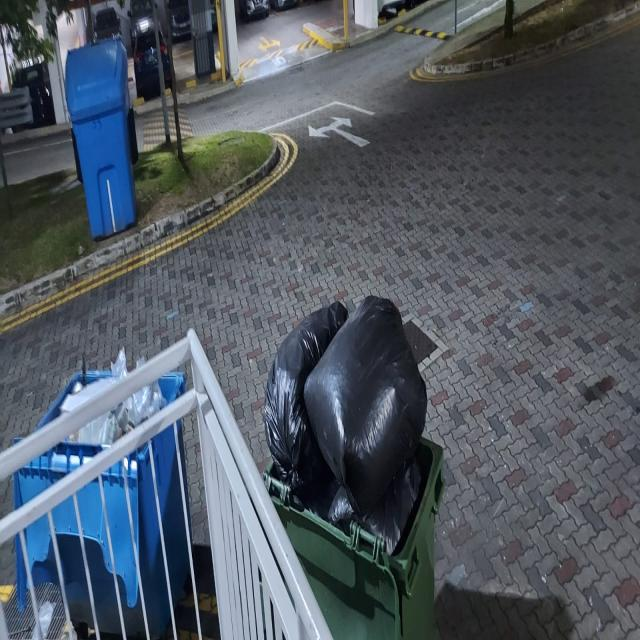bin_empty: (64, 37, 137, 239)
bin_full: (12, 363, 194, 634), (266, 434, 438, 638)
normal_waste: (304, 296, 429, 506), (262, 294, 337, 449), (121, 349, 168, 427), (30, 598, 60, 639), (100, 412, 122, 444)
